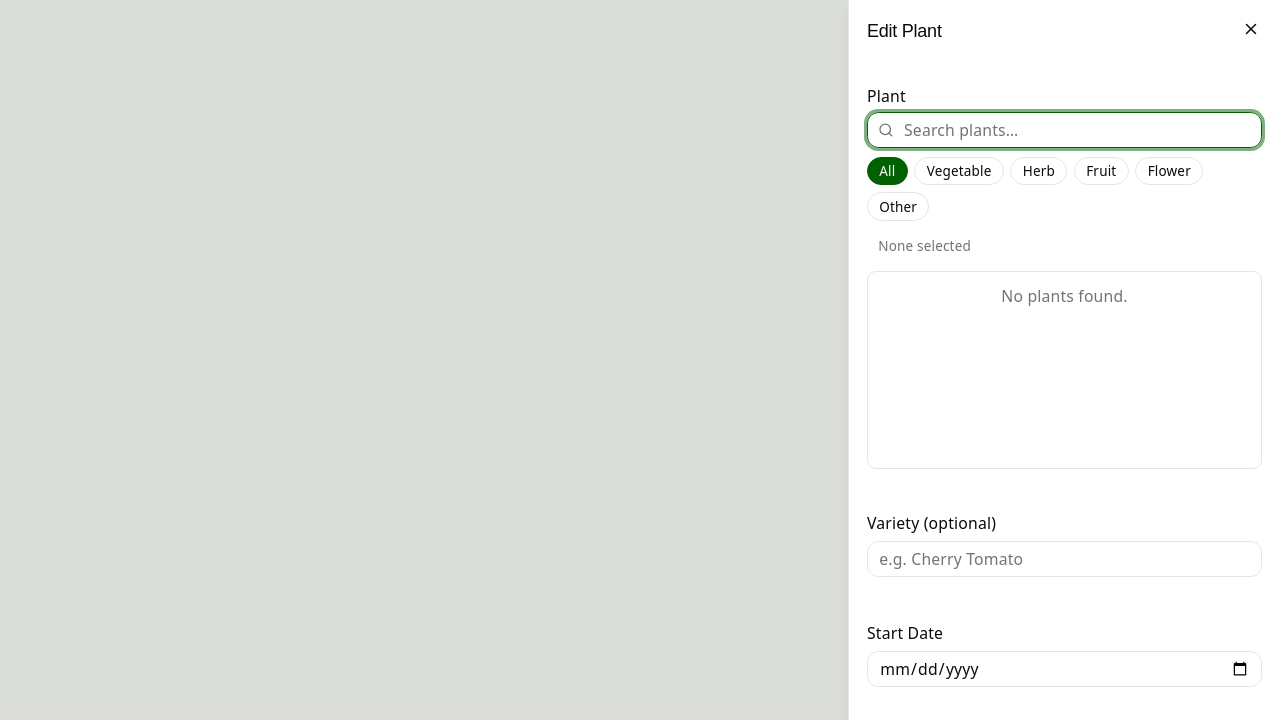
PlantEditForm › applies server errors to the form on failure
In the field labelled "Variety (optional)": (1064, 559) [867,541,1262,577], type "Cherry"
(page scrolled)
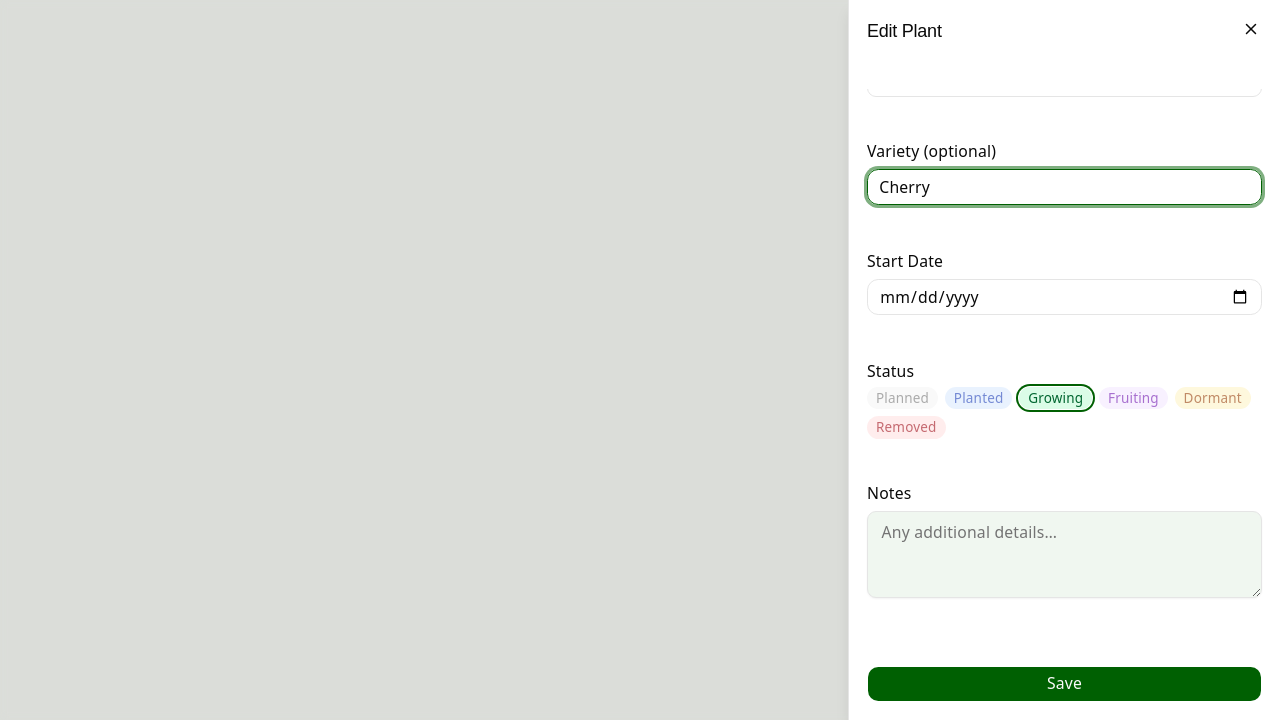
Click the button "Save": (1064, 684) [867,666,1262,702]
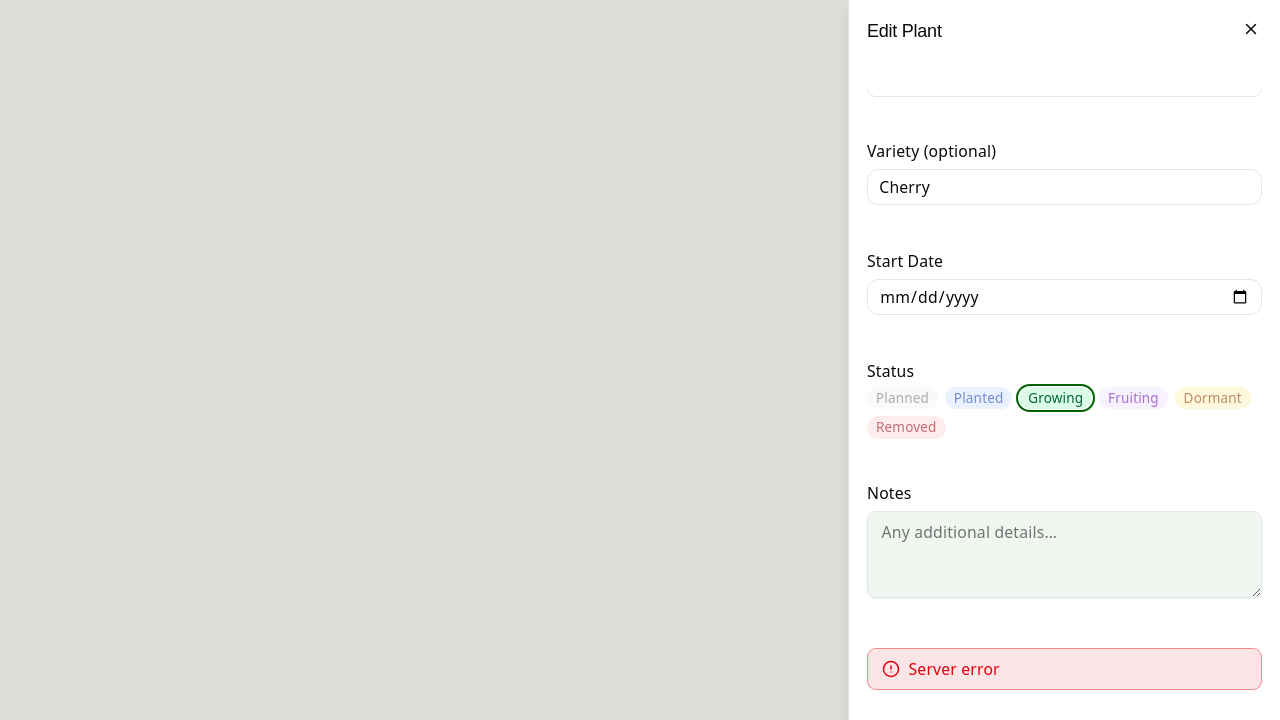
expect the text "Server error" is shown: met, box [908,658,1000,680]
